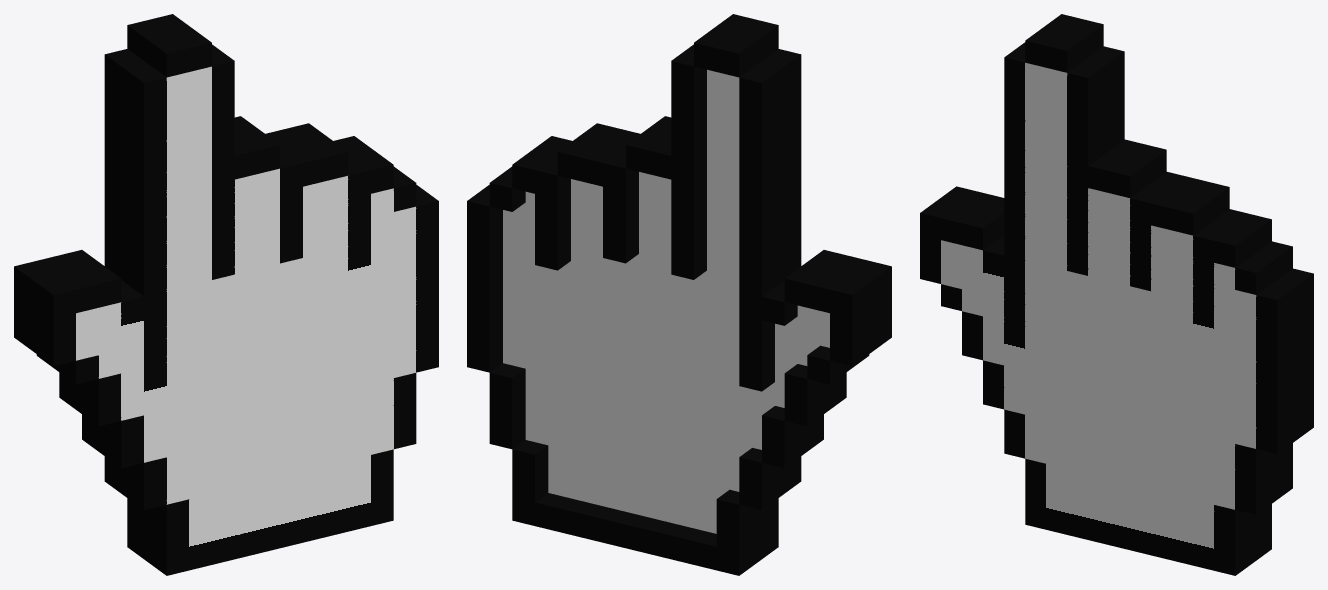
Rendered from click_hand.glb.
3 views of the same model, side by side, from view 1: azimuth 30°, elevation 25°; view 2: azimuth 150°, elevation 25°; view 3: azimuth 330°, elevation 25° (orthographic). The views are drawn at different scales.
Visible parts, largest first — view 1: model-material.001; view 2: model-material.001; view 3: model-material.001.
Part boxes in pixels (x1,y1,x2,y2): model-material.001: (14, 14, 438, 575); model-material.001: (467, 14, 891, 575); model-material.001: (920, 14, 1313, 575).
Bounding box in the file's own units: 17 × 22 × 3.
1 material, 1 textured.
